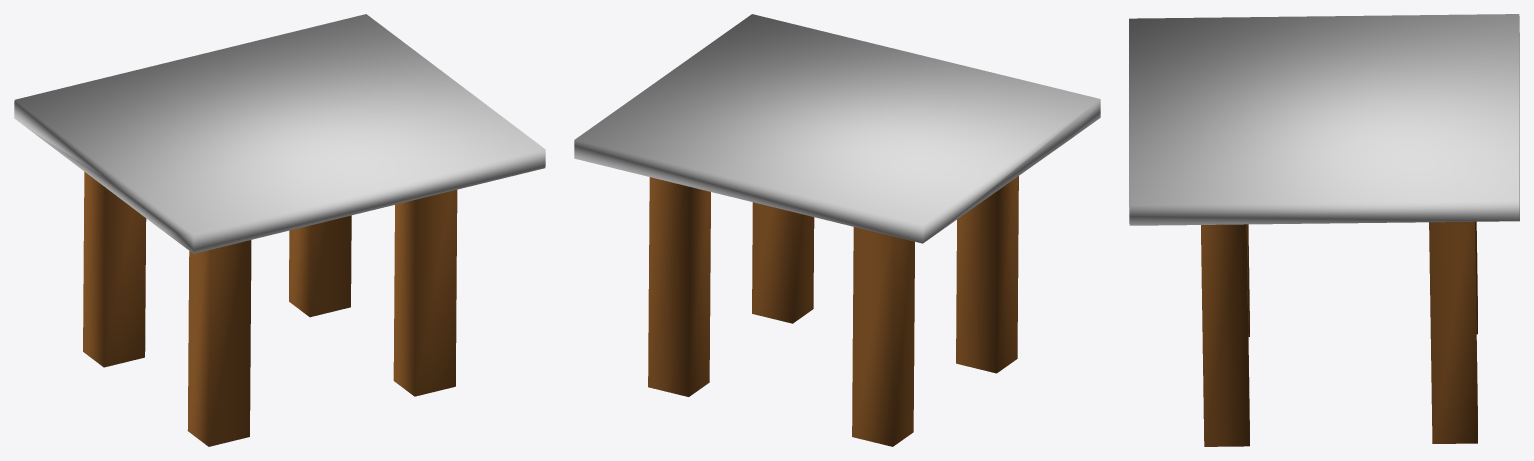
Rendered from mesas.fbx.
3 views of the same model, side by side, from view 1: azimuth 30°, elevation 25°; view 2: azimuth 150°, elevation 25°; view 3: azimuth 270°, elevation 25° (orthographic). The views are drawn at different scales.
Visible parts, largest first — view 1: mesa peque; view 2: mesa peque; view 3: mesa peque.
Boxes of the visible parts, x1,y1,x2,y2 form: mesa peque: (14,14,545,446); mesa peque: (574,14,1100,446); mesa peque: (1129,14,1519,446).
Size of the model in its own units: 74.62 by 51.32 by 65.95.
